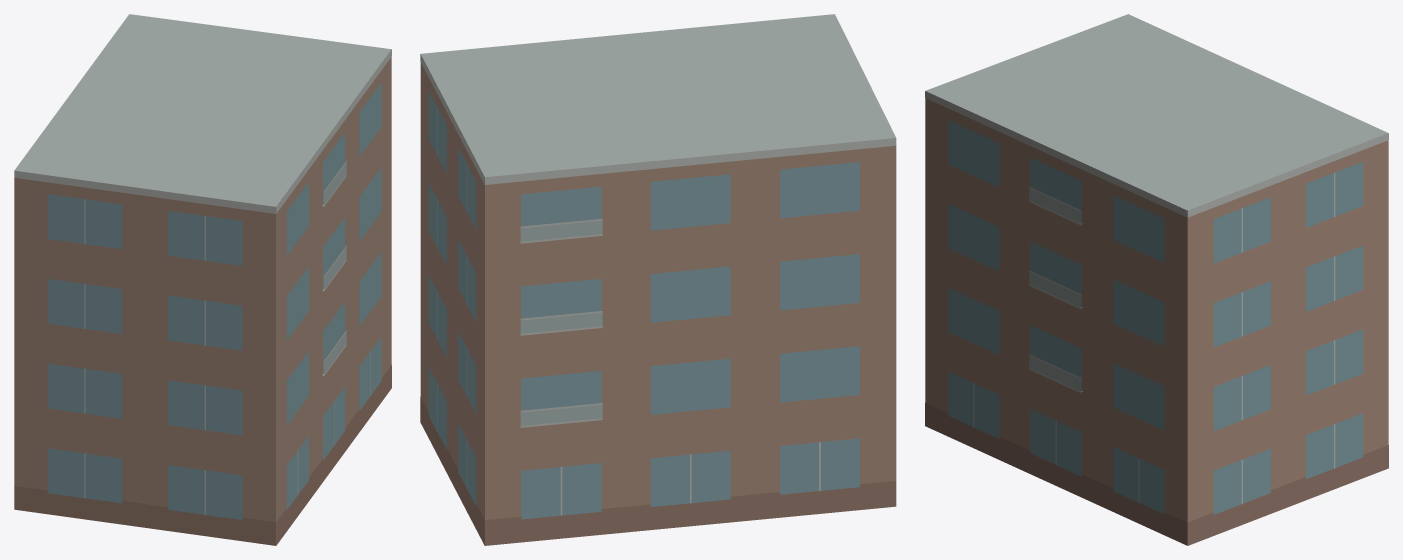
Rendered from survey-upis-32645811.glb.
The picture shows the model from 3 angles, left to right: view 1: azimuth 30°, elevation 25°; view 2: azimuth 150°, elevation 25°; view 3: azimuth 270°, elevation 25°; orthographic projection. The views are drawn at different scales.
Parts seen in each view (by area): view 1: survey-upis-32645811.tmp; view 2: survey-upis-32645811.tmp; view 3: survey-upis-32645811.tmp.
Boxes of the visible parts, x1=… form: survey-upis-32645811.tmp: x1=14, y1=14, x2=391, y2=545; survey-upis-32645811.tmp: x1=420, y1=14, x2=896, y2=545; survey-upis-32645811.tmp: x1=925, y1=14, x2=1388, y2=545.
Size of the model in its own units: 14.73 by 11.7 by 14.67.
